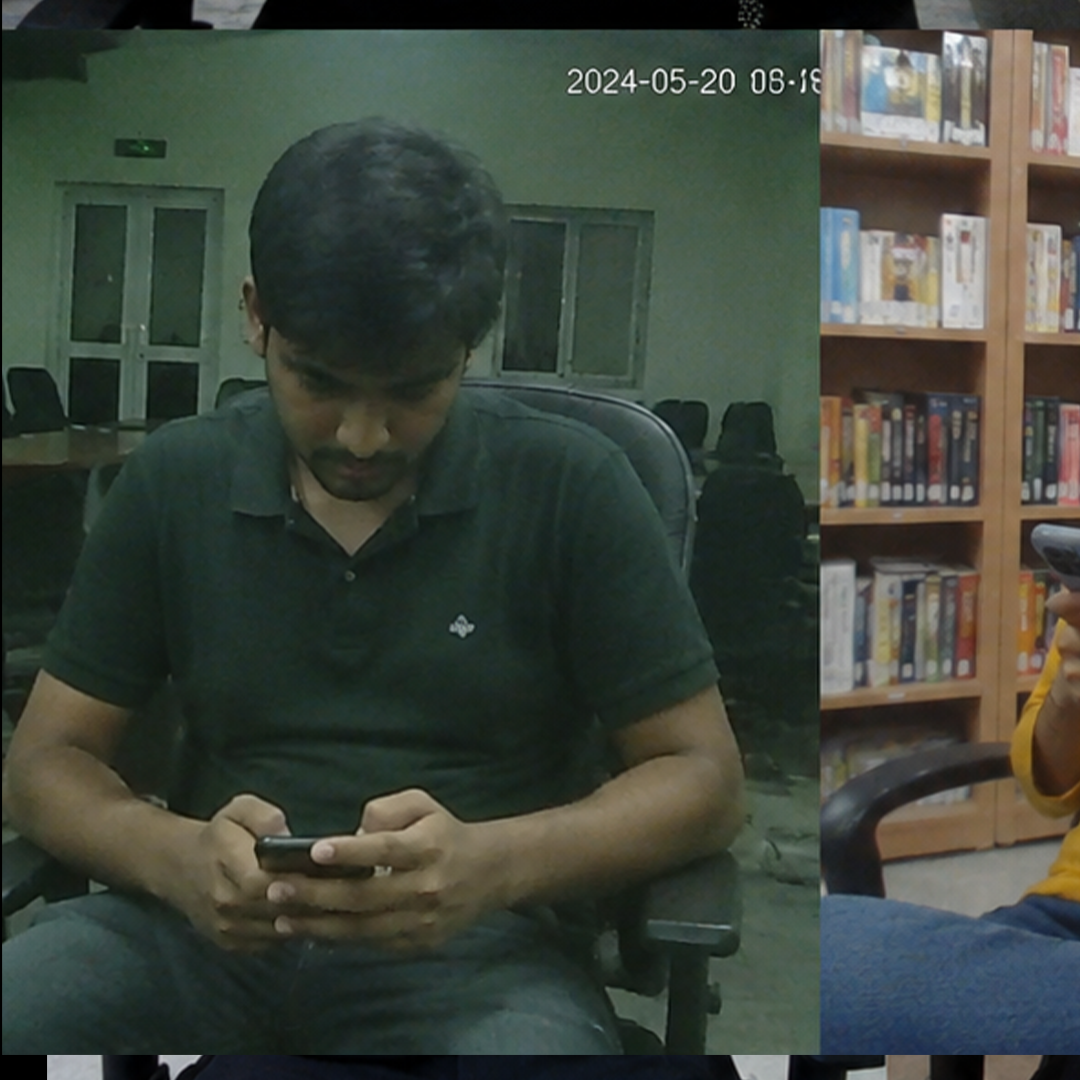distracted: (188, 84, 639, 952)
